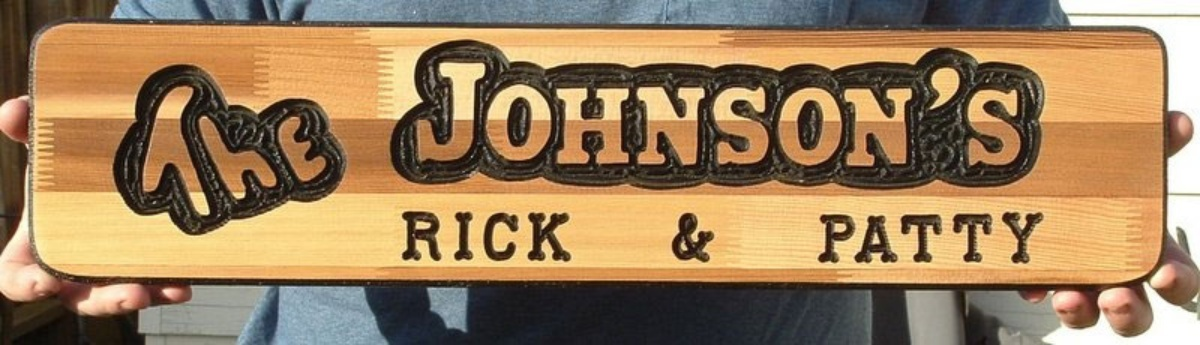text: (129, 85, 144, 239), (145, 85, 160, 239), (161, 85, 176, 239), (177, 85, 192, 239), (193, 85, 208, 239), (209, 85, 224, 239), (225, 85, 240, 239), (241, 85, 256, 239), (257, 85, 272, 239), (273, 85, 288, 239), (289, 85, 304, 239), (305, 85, 320, 239), (321, 85, 336, 239), (417, 58, 432, 169), (433, 58, 448, 169), (449, 58, 464, 169), (465, 58, 480, 169), (481, 58, 496, 169), (497, 58, 512, 169), (513, 58, 528, 169), (529, 58, 544, 169), (545, 58, 560, 169), (561, 58, 576, 169), (577, 58, 592, 169), (593, 58, 608, 169), (609, 58, 624, 169), (625, 58, 640, 169), (641, 58, 656, 169), (657, 58, 672, 169), (673, 58, 688, 169), (689, 58, 704, 169), (705, 58, 720, 169), (721, 58, 736, 169), (737, 58, 752, 169), (753, 58, 768, 169), (769, 58, 784, 169), (785, 58, 800, 169), (801, 58, 816, 169), (817, 58, 832, 169), (833, 58, 848, 169), (849, 58, 864, 169), (865, 58, 880, 169), (881, 58, 896, 169), (897, 58, 912, 169), (913, 58, 928, 169), (929, 58, 944, 169), (945, 58, 960, 169), (961, 58, 976, 169), (977, 58, 992, 169), (993, 58, 1008, 169), (1009, 58, 1024, 169), (119, 85, 128, 239), (417, 209, 432, 263), (433, 209, 448, 263), (449, 209, 464, 263), (465, 209, 480, 263), (481, 209, 496, 263), (497, 209, 512, 263), (513, 209, 528, 263), (529, 209, 544, 263), (545, 209, 560, 263), (673, 212, 688, 265), (689, 212, 704, 265), (833, 212, 848, 263), (849, 212, 864, 263), (865, 212, 880, 263), (881, 212, 896, 263), (897, 212, 912, 263), (913, 212, 928, 263), (929, 212, 944, 263), (945, 212, 960, 263), (961, 212, 976, 263), (977, 212, 992, 263), (993, 212, 1008, 263), (1009, 212, 1024, 263), (1025, 212, 1040, 263), (403, 209, 416, 263), (820, 212, 832, 263), (561, 209, 571, 263), (705, 212, 715, 265), (412, 58, 416, 169), (337, 85, 339, 239), (1041, 212, 1046, 263), (1025, 58, 1027, 169), (671, 212, 672, 265)
